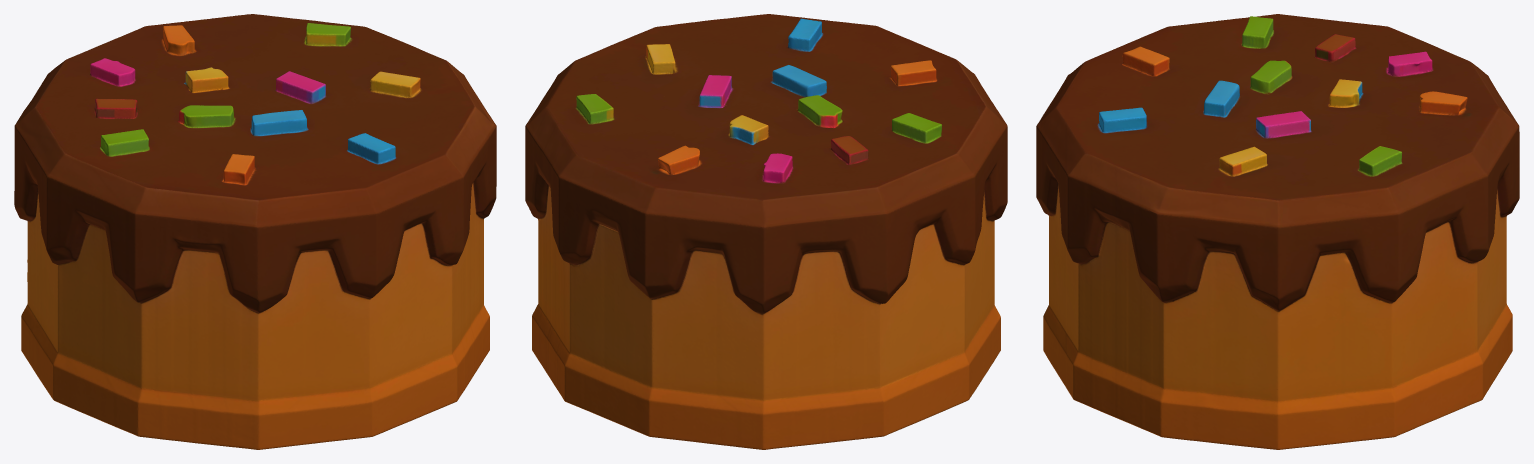
Rendered from cake chocolate 3d model.glb.
The picture shows the model from 3 angles, left to right: view 1: azimuth 30°, elevation 25°; view 2: azimuth 150°, elevation 25°; view 3: azimuth 270°, elevation 25°; orthographic projection.
Visible parts, largest first — view 1: tripo_node_43911330-9ba5-4c62-ba1d-b6562193cb53; view 2: tripo_node_43911330-9ba5-4c62-ba1d-b6562193cb53; view 3: tripo_node_43911330-9ba5-4c62-ba1d-b6562193cb53.
Boxes of the visible parts, bbox=[...] form: tripo_node_43911330-9ba5-4c62-ba1d-b6562193cb53: bbox=[14, 14, 496, 449]; tripo_node_43911330-9ba5-4c62-ba1d-b6562193cb53: bbox=[525, 14, 1007, 449]; tripo_node_43911330-9ba5-4c62-ba1d-b6562193cb53: bbox=[1036, 14, 1519, 449].
Bounding box in the file's own units: 0.998 × 0.6289 × 1.
1 material, 1 textured.
